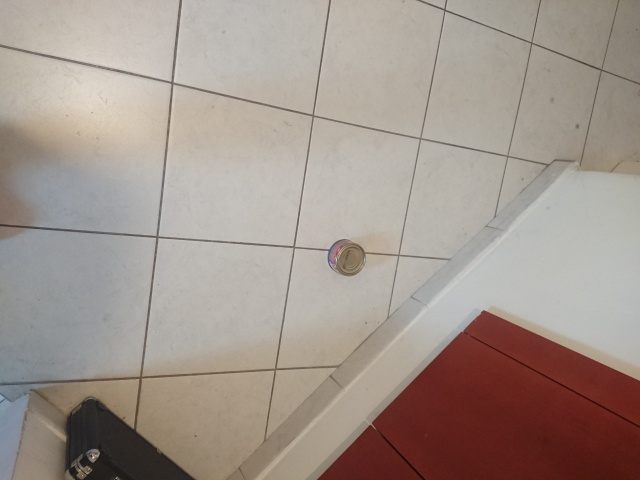Giana Tuna Salad Mexico 185g: (326, 237, 368, 279)
